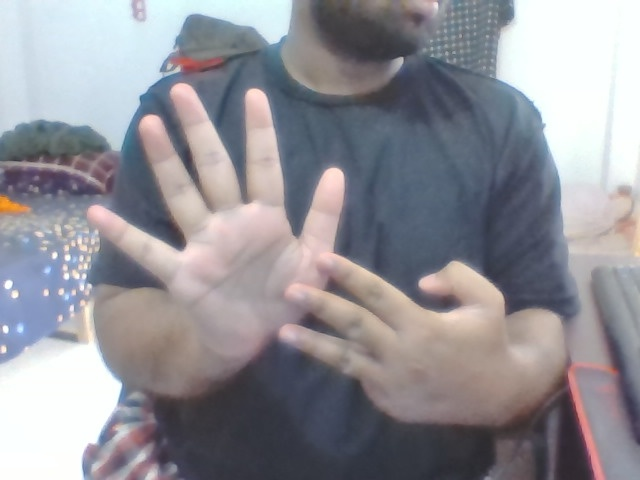M: (83, 79, 516, 453)
